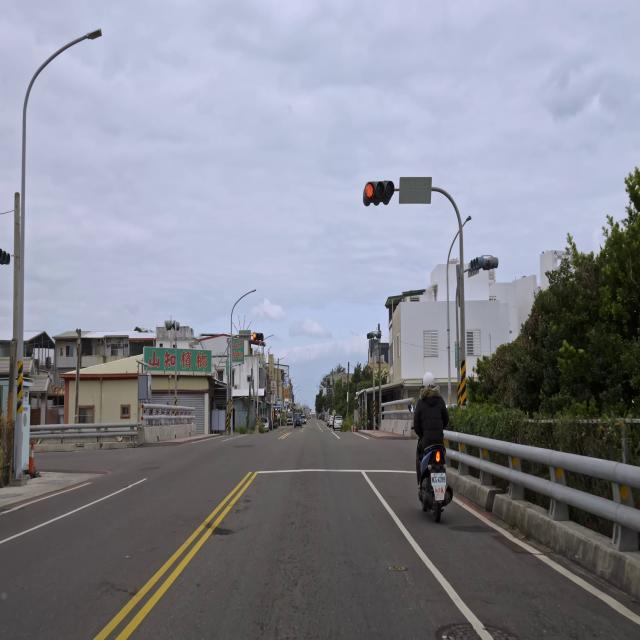red light: (362, 180, 394, 204), (252, 332, 264, 340)
